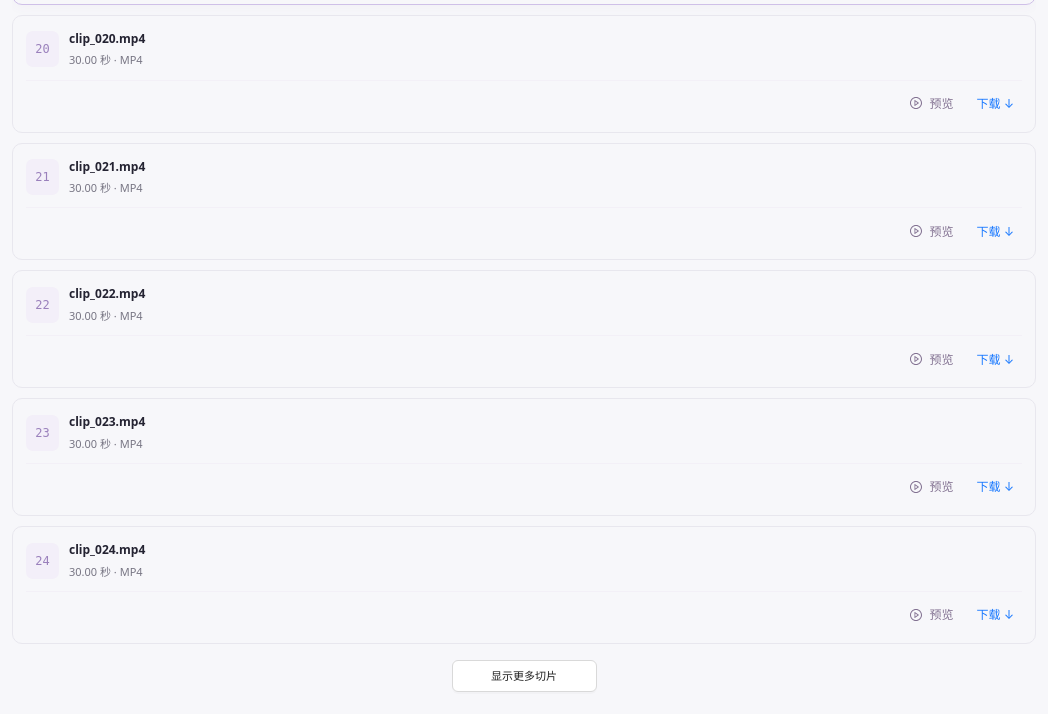
Test: clip browser › searches all 120 clips beyond the first batch and handles no matches
The width and height of the screenshot is (1048, 714).
(page scrolled)
Expected: the text "clip_120.mp4" is not shown
Step 1. Click the button "显示更多切片" → (524,676), box [452,660,596,692]
(page scrolled)
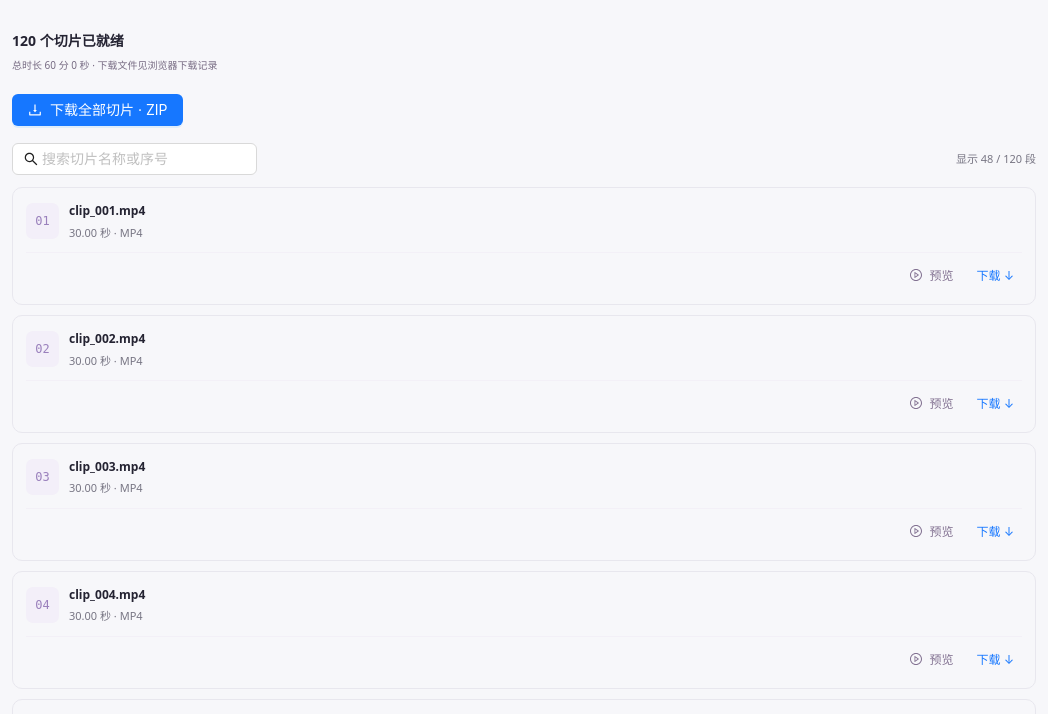
Expected: the text "显示 48 / 120 段" is shown, [956,150,1036,168]
Step 2. Type "120" into the search field → (136,159), box [42,148,229,170]
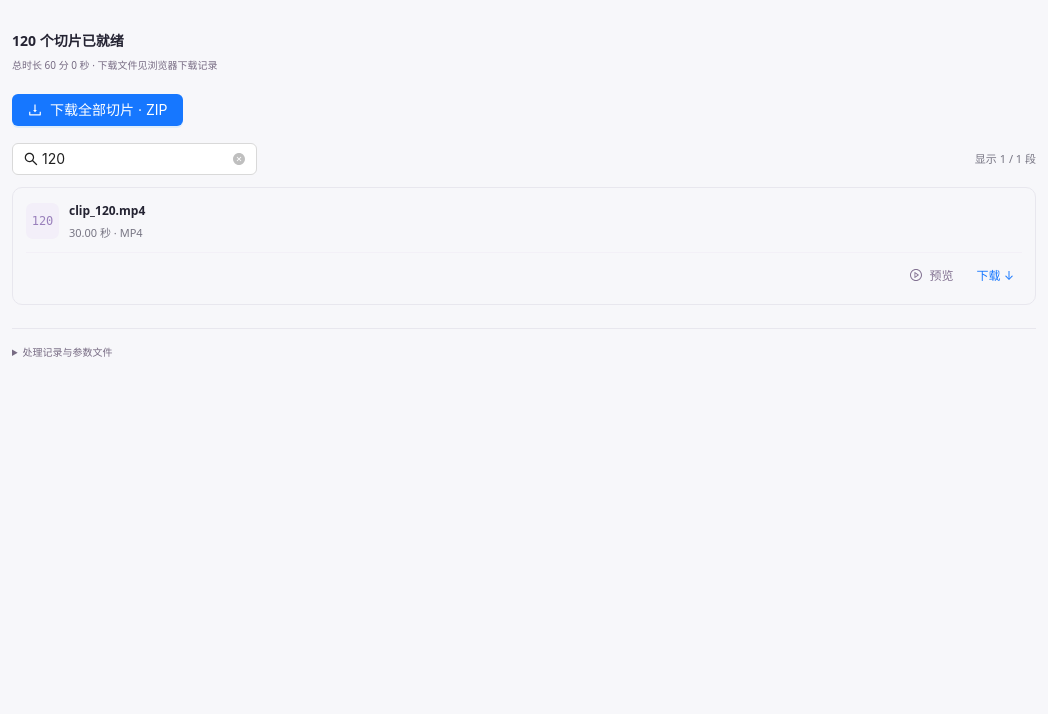
Expected: the text "clip_120.mp4" is shown, [69,202,145,219]
Expected: the text "显示 1 / 1 段" is shown, [975,150,1036,168]
Step 3. Replace the text in the search field with "不存在" → (136,159), box [42,148,229,170]
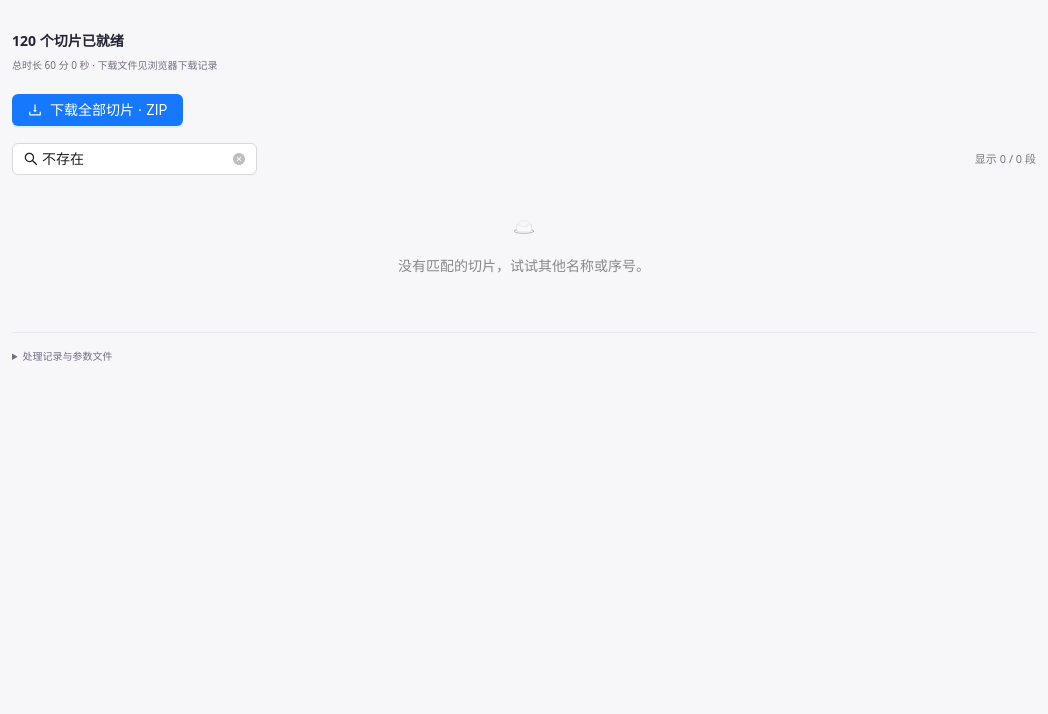
Expected: the text "没有匹配的切片，试试其他名称或序号。" is shown, [398,257,650,274]
